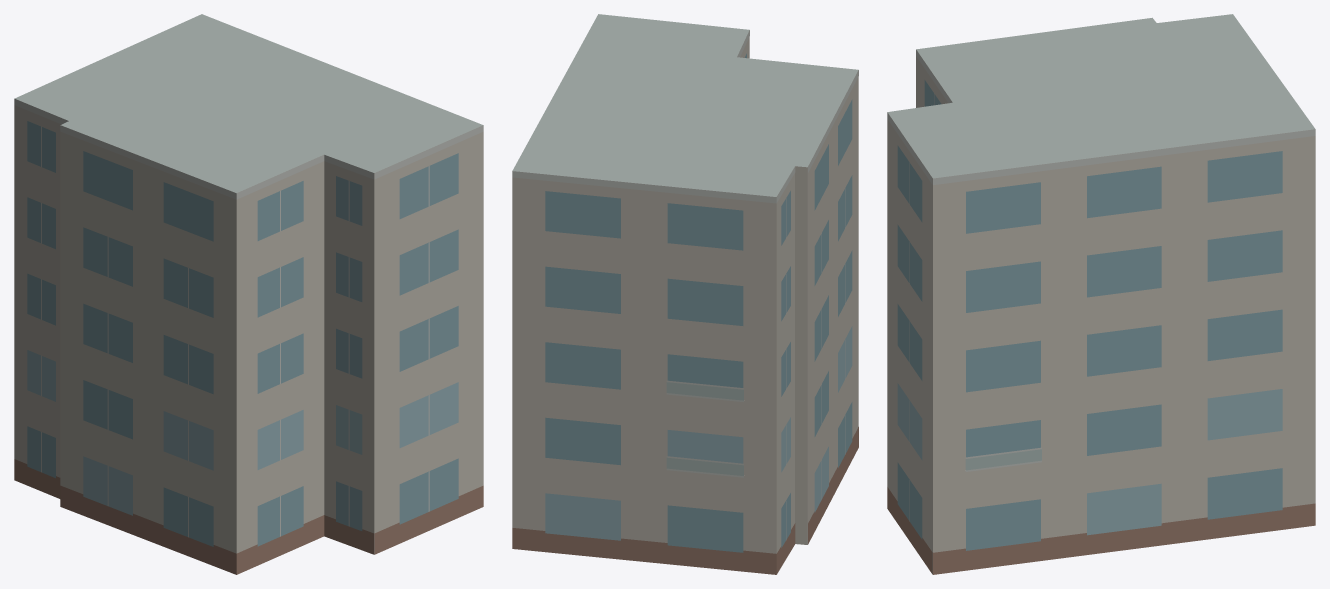
File: survey-upis-32926912.glb
The picture shows the model from 3 angles, left to right: view 1: azimuth 30°, elevation 25°; view 2: azimuth 150°, elevation 25°; view 3: azimuth 270°, elevation 25°; orthographic projection. The views are drawn at different scales.
Visible parts, largest first — view 1: survey-upis-32926912.tmp; view 2: survey-upis-32926912.tmp; view 3: survey-upis-32926912.tmp.
Boxes of the visible parts, x1,y1,x2,y2 form: survey-upis-32926912.tmp: (14, 14, 483, 574); survey-upis-32926912.tmp: (512, 14, 858, 574); survey-upis-32926912.tmp: (887, 14, 1315, 574).
Bounding box in the file's own units: 12.83 × 14.4 × 14.11.
